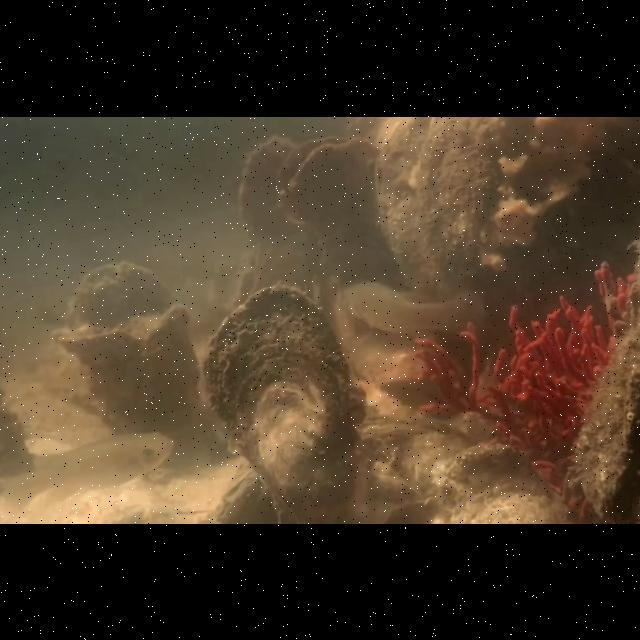Oyster-Closed: (202, 284, 360, 524), (49, 304, 199, 432), (433, 443, 565, 523), (63, 261, 174, 333), (240, 135, 298, 261)
Oyster-Open: (276, 134, 382, 268)
